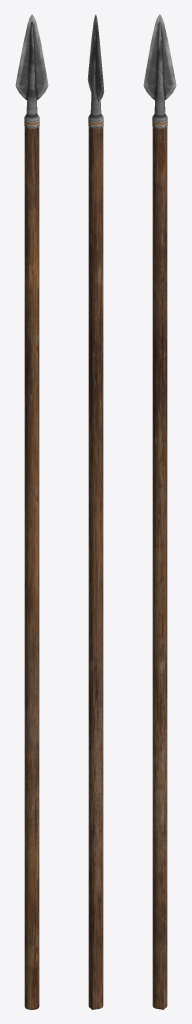
Rendered from Spear_04.fbx.
3 renders of one model, left to right at view 1: azimuth 90°, elevation 25°; view 2: azimuth 210°, elevation 25°; view 3: azimuth 270°, elevation 25°, orthographic.
Parts seen in each view (by area): view 1: Spear_04_LOD0; view 2: Spear_04_LOD0; view 3: Spear_04_LOD0.
Part boxes in pixels (x1,y1,x2,y2): Spear_04_LOD0: (15,14,48,1009); Spear_04_LOD0: (87,14,104,1009); Spear_04_LOD0: (143,14,176,1009).
Size of what is drawn, in the model's own units: 2.72 by 193 by 5.78.
